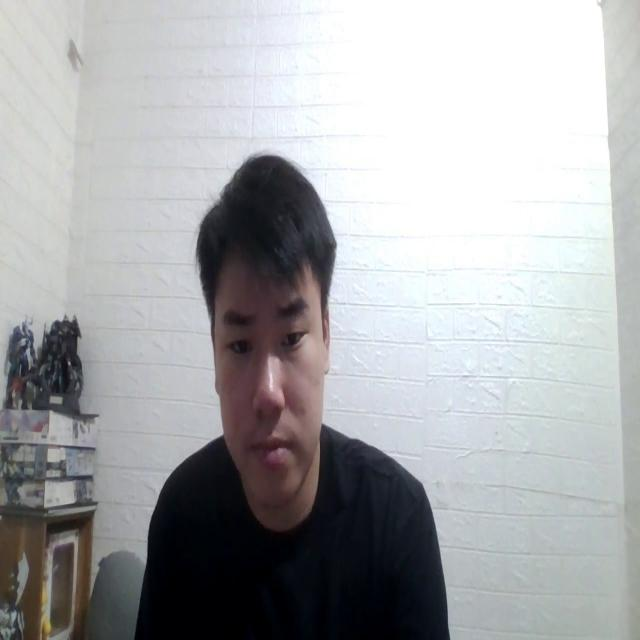student: (126, 141, 449, 640)
